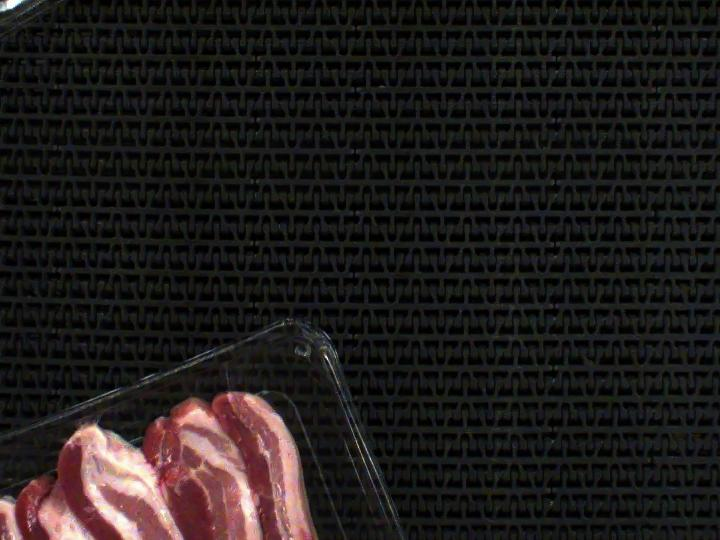packaging-error: (66, 411, 107, 431)
